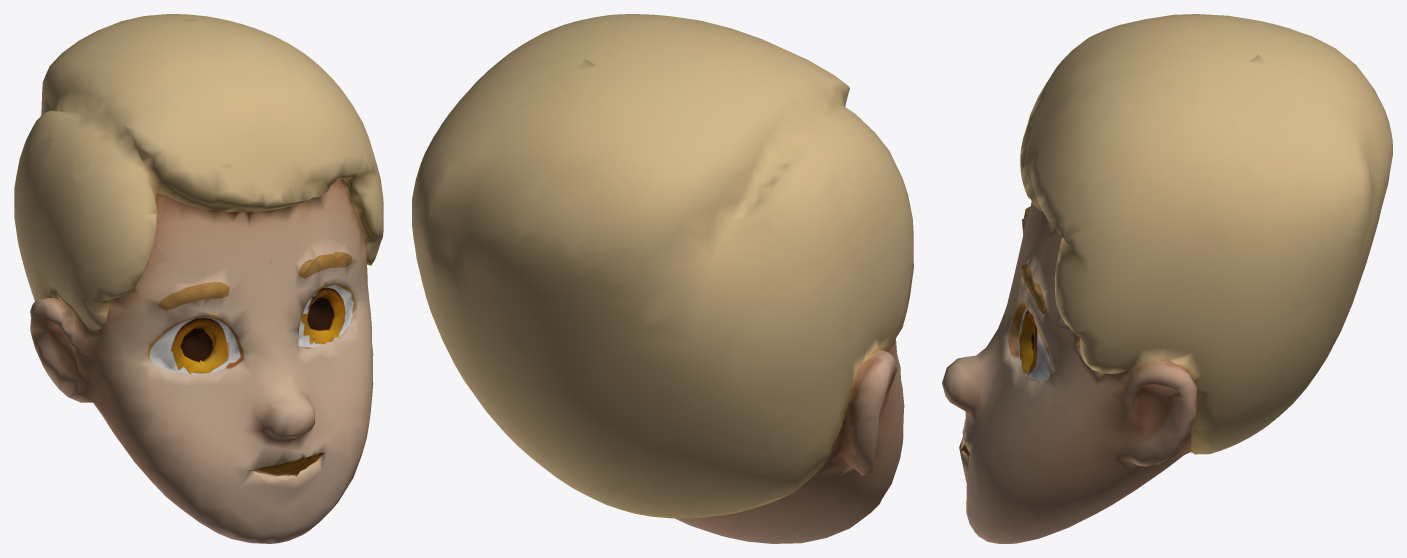
File: male_head.obj
3 renders of one model, left to right at view 1: azimuth 30°, elevation 25°; view 2: azimuth 150°, elevation 25°; view 3: azimuth 270°, elevation 25°, orthographic. The views are drawn at different scales.
Bounding box in the file's own units: 0.472 × 0.598 × 0.4943.
Materials: 1 (1 with a texture image).
